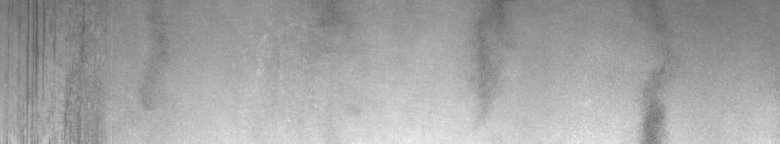ka: (16, 4, 92, 136)
